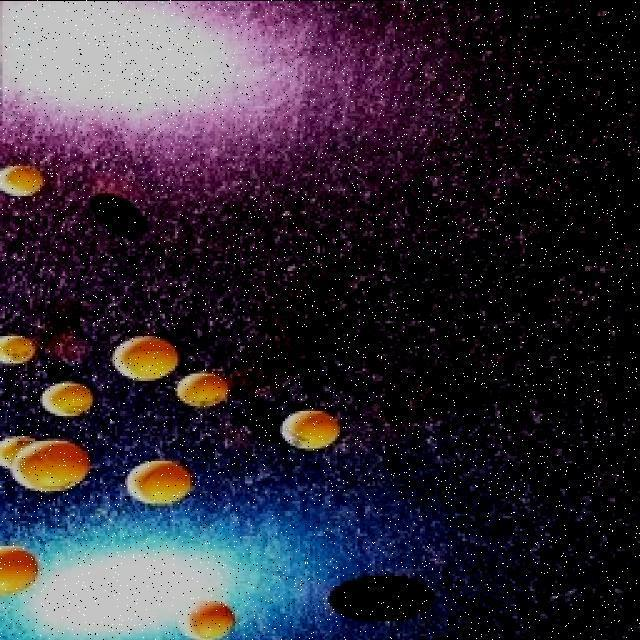ping-pong-ball: (14, 437, 92, 490), (127, 459, 196, 504), (112, 335, 176, 379), (278, 410, 341, 450), (178, 597, 234, 637), (0, 544, 40, 594), (172, 372, 230, 406), (44, 383, 94, 416), (2, 162, 46, 194), (0, 332, 40, 366)
